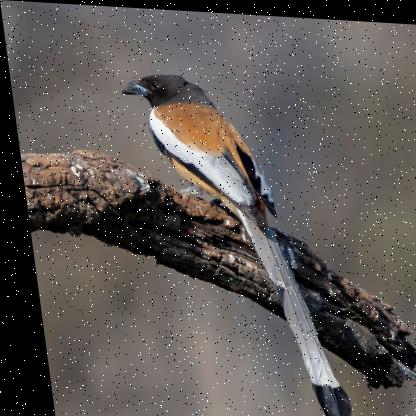Burung: (118, 69, 344, 415)
